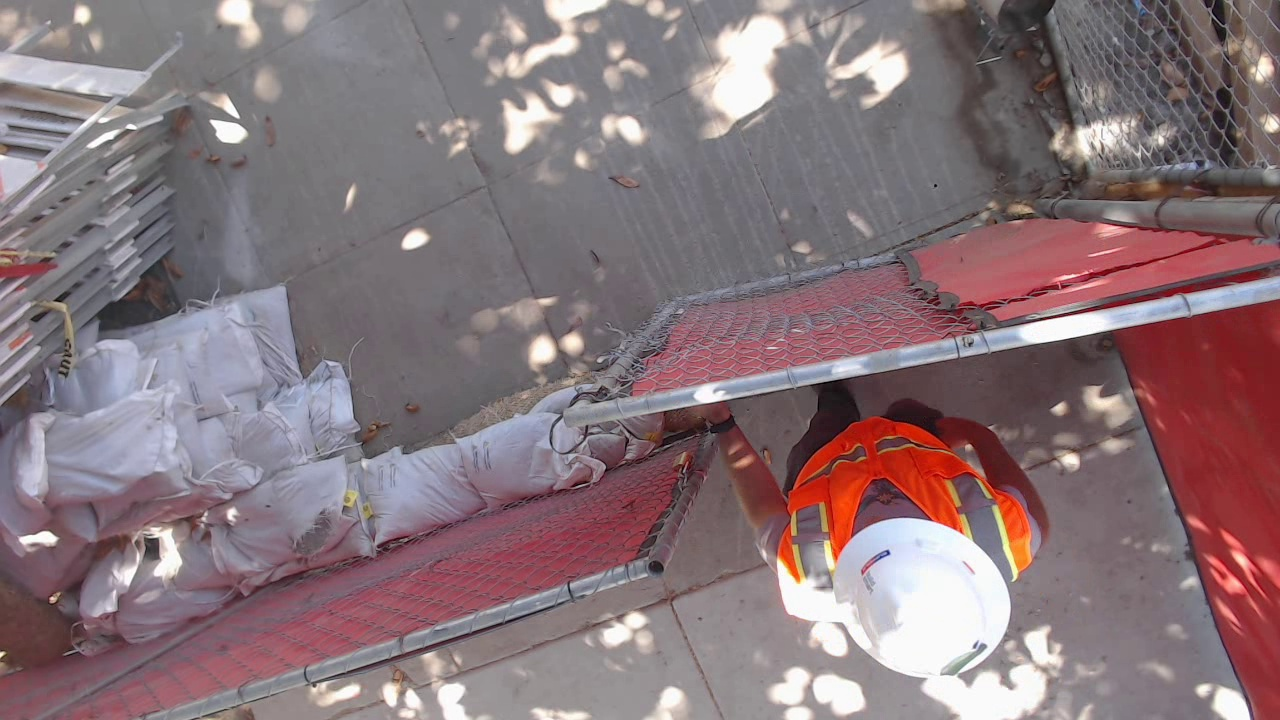green: (938, 640, 990, 677)
hardhat: (833, 518, 1013, 677)
person: (702, 407, 1054, 678)
safetyvest: (774, 415, 1033, 621)
